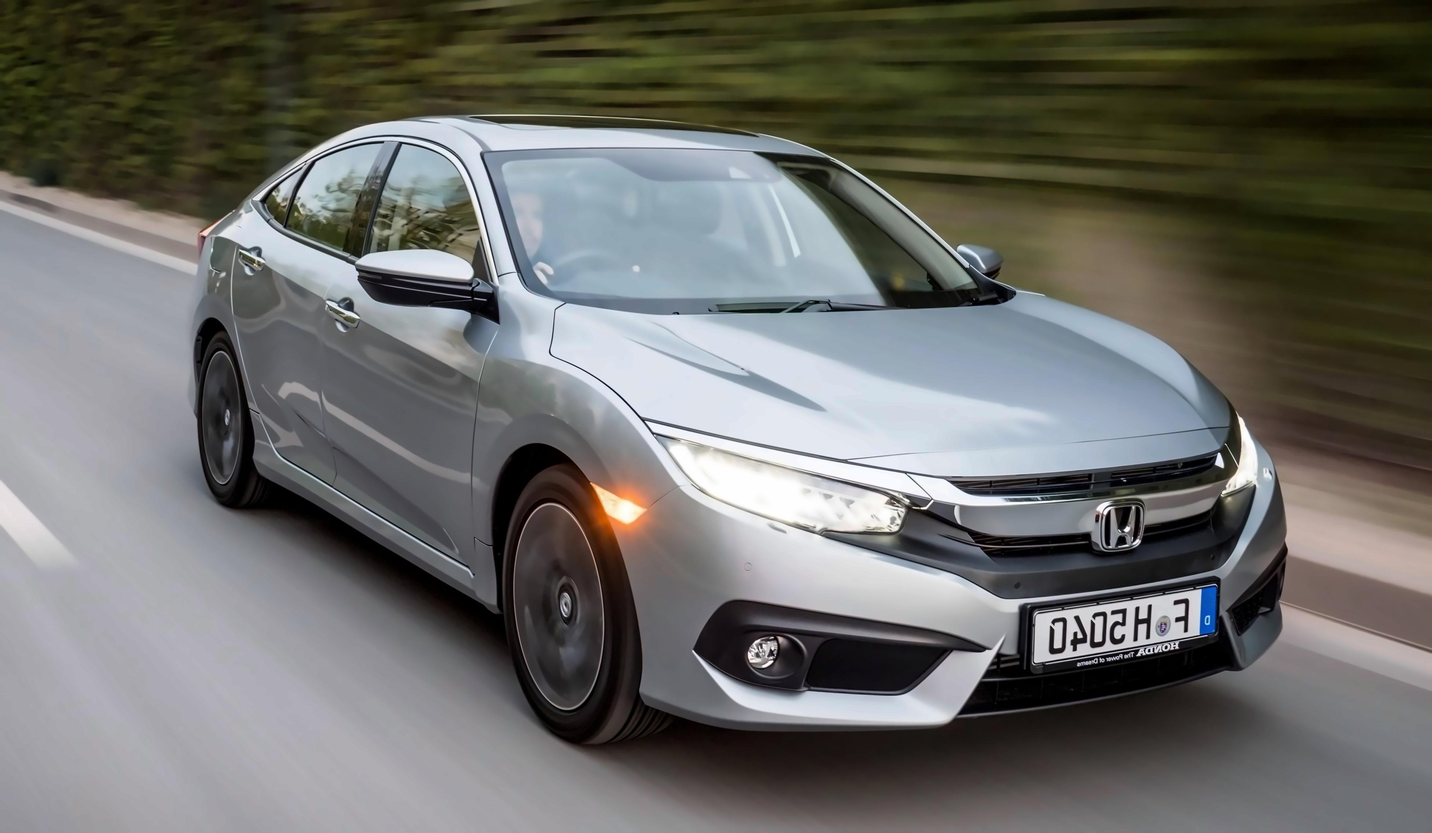Car hood: (547, 296, 1254, 477)
Driver-s door - -F-R-: (336, 130, 502, 573)
Fender - -F-R-: (463, 272, 690, 612)
Fender - -R-R-: (200, 239, 293, 485)
Front bumper: (622, 468, 1302, 747)
Headlight - -L-: (1202, 389, 1283, 503)
Headlight - -R-: (643, 426, 914, 542)
Passenger-s door - -R-R-: (230, 130, 382, 487)
Rear bumper: (173, 312, 222, 442)
Rear light - -R-: (173, 204, 255, 275)
Side bumper - -R-: (242, 424, 505, 618)
Side mirror - -L-: (944, 231, 1007, 280)
Side mirror - -R-: (351, 235, 500, 319)
